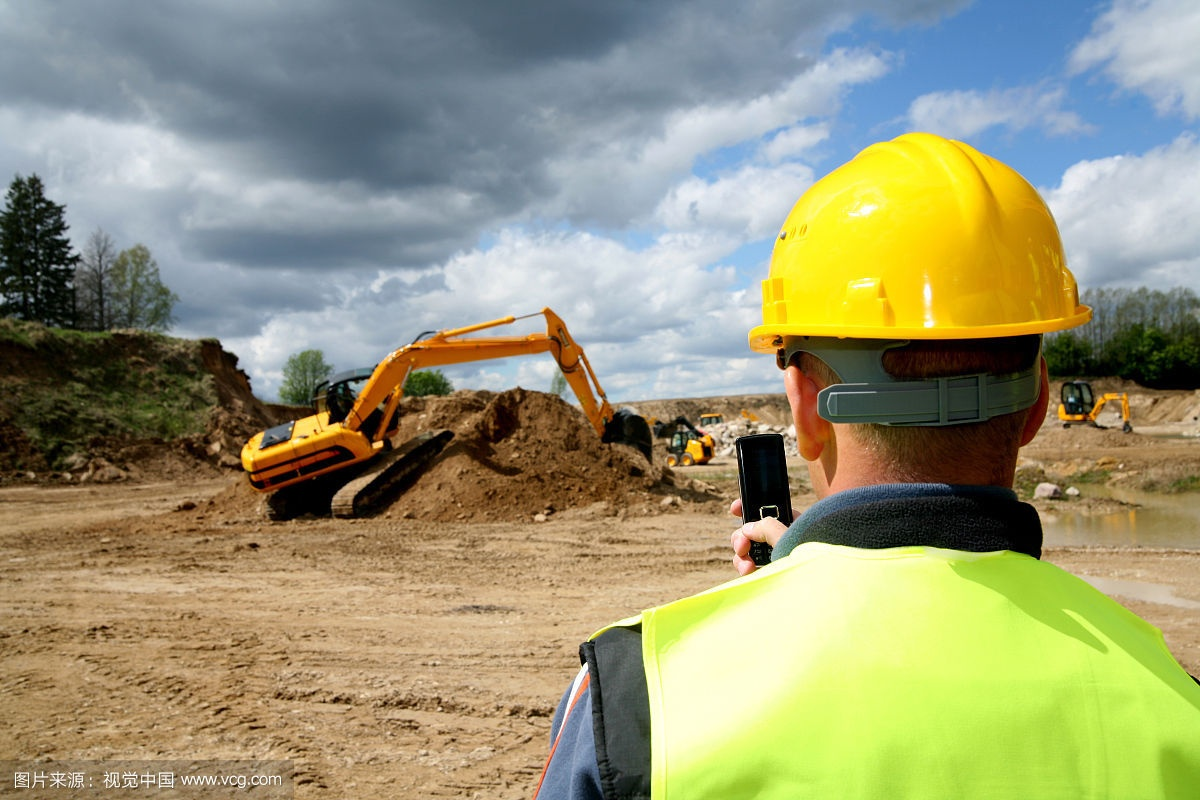yellow: (764, 127, 1084, 500)
